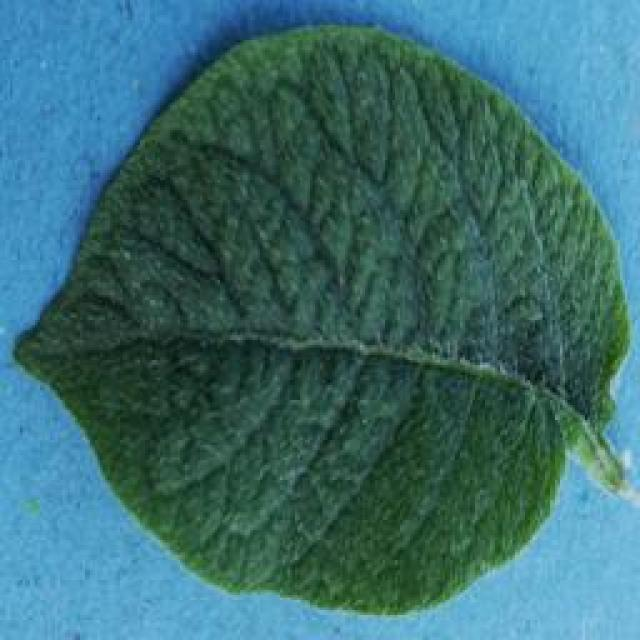Potato_Healthy: (11, 22, 630, 612)
